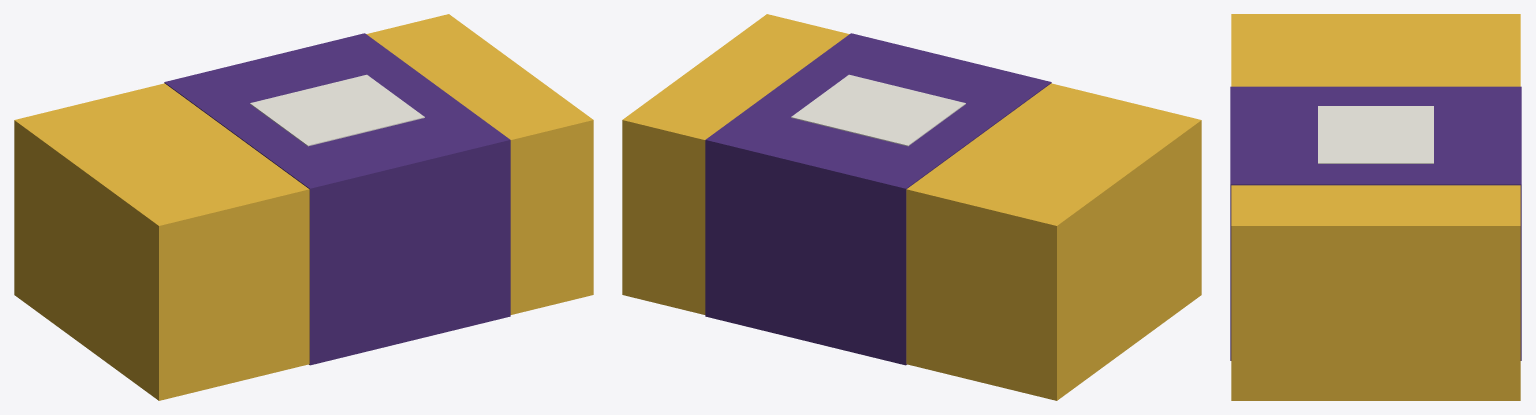
File: g-cheese.glb
3 renders of one model, left to right at view 1: azimuth 30°, elevation 25°; view 2: azimuth 150°, elevation 25°; view 3: azimuth 270°, elevation 25°, orthographic.
Visible parts, largest first — view 1: g_cheese; view 2: g_cheese; view 3: g_cheese.
Part boxes in pixels (x1,y1,x2,y2): g_cheese: (14, 14, 593, 400); g_cheese: (622, 14, 1201, 400); g_cheese: (1230, 14, 1521, 400).
Size of the model in its own units: 0.13 by 0.051 by 0.0755.
